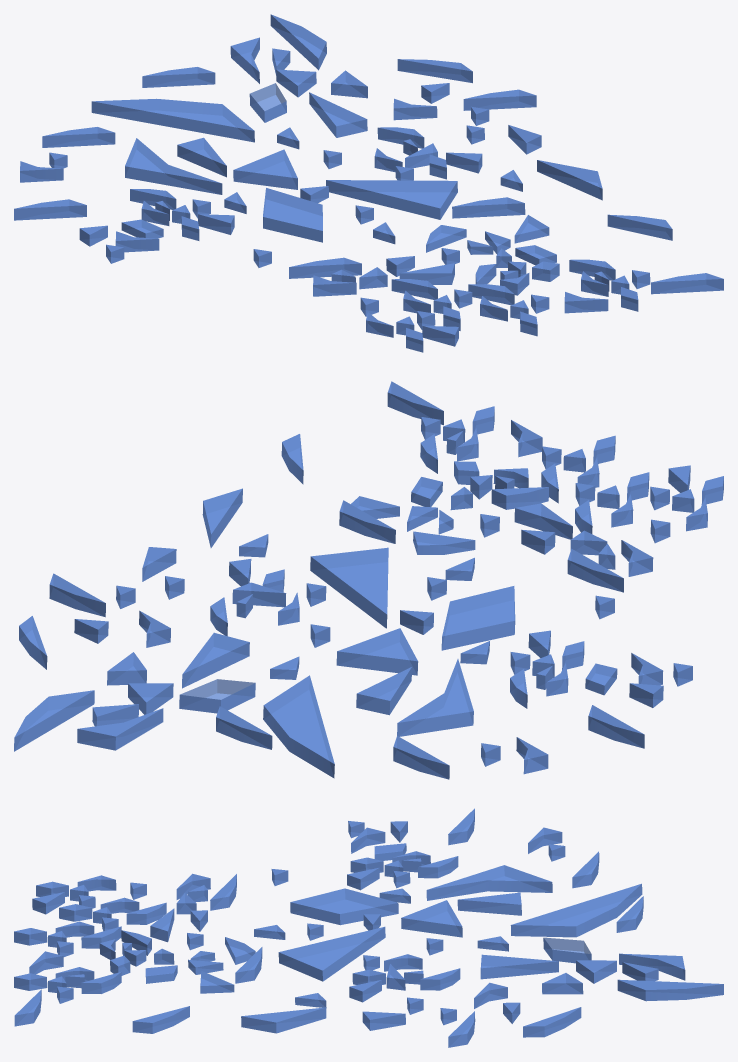
File: Broken_glass.dae
3 renders of one model, top to bottom at view 1: azimuth 30°, elevation 25°; view 2: azimuth 150°, elevation 25°; view 3: azimuth 270°, elevation 25°, orthographic. The views are drawn at different scales.
Parts seen in each view (by area): view 1: Component_163 (×41); view 2: Component_163 (×41); view 3: Component_163 (×54).
Boxes of the visible parts, x1,y1,x2,y2 form: Component_163 (×41): (14, 14, 723, 346); Component_163 (×41): (14, 381, 663, 779); Component_163 (×54): (14, 808, 723, 1047).
Size of the model in its own units: 17.7 by 23.19 by 0.8238.
